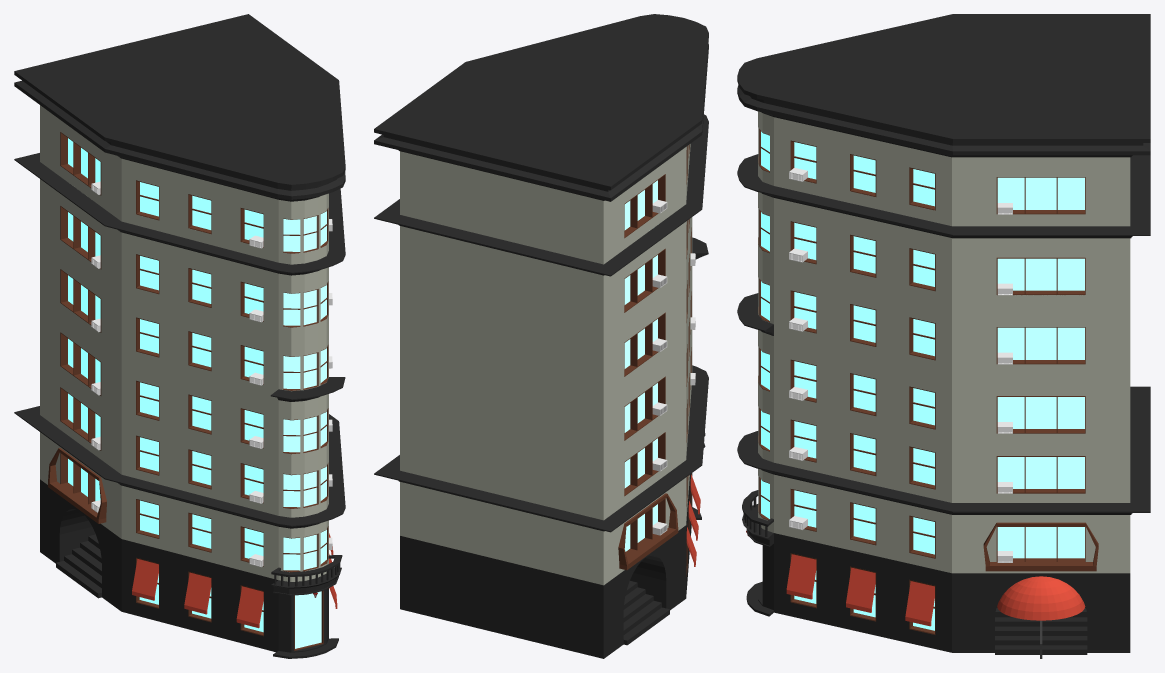
Rendered from building_angle.fbx.
3 renders of one model, left to right at view 1: azimuth 30°, elevation 25°; view 2: azimuth 150°, elevation 25°; view 3: azimuth 270°, elevation 25°, orthographic. The views are drawn at different scales.
Parts seen in each view (by area): view 1: Cube.028, Cube.032, Cube.030, Cube.031, Cube.033; view 2: Cube.028, Cube.030, Cube.032, Cube.031; view 3: Cube.028, Cube.032, Cube.030, Cube.031, Sphere.003, Cube.033.
Part boxes in pixels (left/top/right/bottom): Cube.028: left=14, top=14, right=345, bottom=658; Cube.032: left=136, top=180, right=332, bottom=636; Cube.030: left=48, top=132, right=106, bottom=523; Cube.031: left=132, top=533, right=337, bottom=628; Cube.033: left=283, top=208, right=328, bottom=572; Cube.028: left=374, top=14, right=708, bottom=658; Cube.030: left=618, top=174, right=678, bottom=570; Cube.032: left=686, top=144, right=695, bottom=576; Cube.031: left=686, top=474, right=700, bottom=566; Cube.028: left=737, top=14, right=1150, bottom=654; Cube.032: left=789, top=140, right=935, bottom=634; Cube.030: left=983, top=177, right=1098, bottom=571; Cube.031: left=786, top=554, right=934, bottom=626; Sphere.003: left=997, top=576, right=1085, bottom=620; Cube.033: left=758, top=129, right=769, bottom=520.
Bounding box in the file's own units: 1182 × 2266 × 1626.
